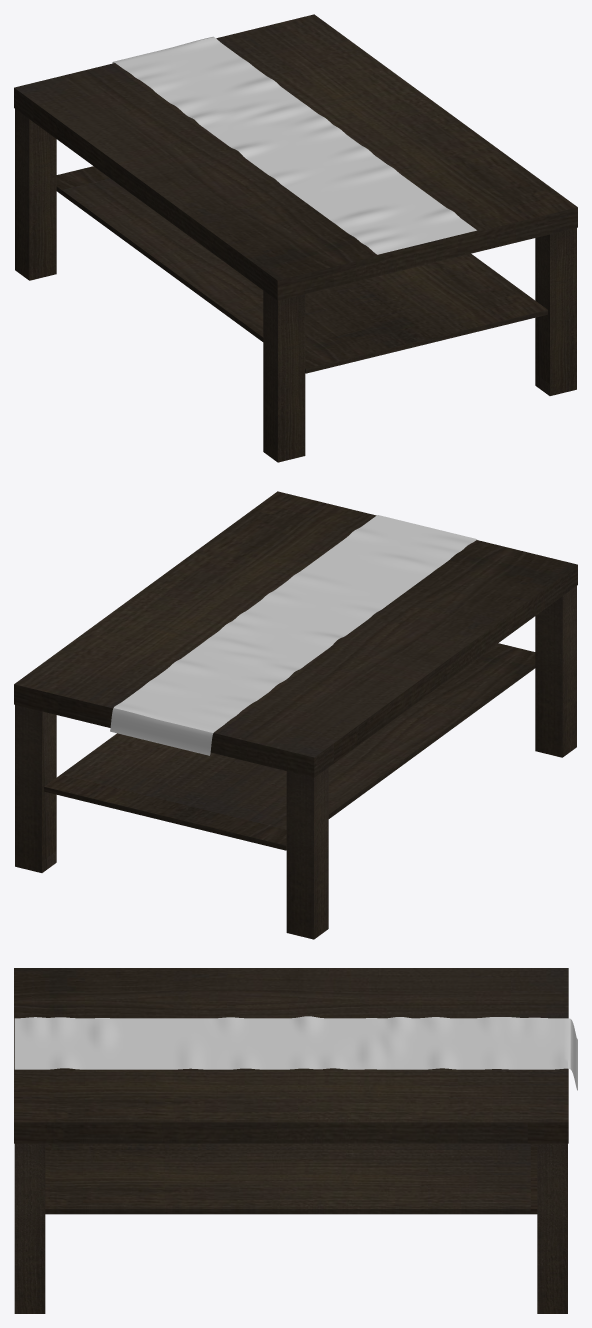
File: 6k_coffee_table.fbx
The picture shows the model from 3 angles, top to bottom: view 1: azimuth 30°, elevation 25°; view 2: azimuth 150°, elevation 25°; view 3: azimuth 270°, elevation 25°; orthographic projection. The views are drawn at different scales.
Parts seen in each view (by area): view 1: plateau1, etage1, Table_Runner_End1, pied1, pied4, pied3; view 2: plateau1, Table_Runner_End1, etage1, pied3, pied2, pied1; view 3: plateau1, etage1, Table_Runner_End1, pied4, pied2.
Boxes of the visible parts, x1,y1,x2,y2 form: plateau1: (14, 14, 577, 300); etage1: (56, 166, 547, 373); Table_Runner_End1: (112, 36, 476, 254); pied1: (263, 290, 305, 462); pied4: (535, 228, 576, 395); pied3: (15, 109, 56, 280); plateau1: (14, 491, 577, 777); Table_Runner_End1: (110, 515, 477, 755); etage1: (44, 643, 535, 850); pied3: (286, 767, 328, 939); pied2: (15, 705, 56, 872); pied1: (535, 586, 576, 757); plateau1: (14, 968, 568, 1143); etage1: (45, 1143, 537, 1214); Table_Runner_End1: (14, 1016, 577, 1090); pied4: (14, 1143, 45, 1313); pied2: (537, 1143, 567, 1313).
Bounding box in the file's own units: 30.53 × 18.01 × 47.2.
